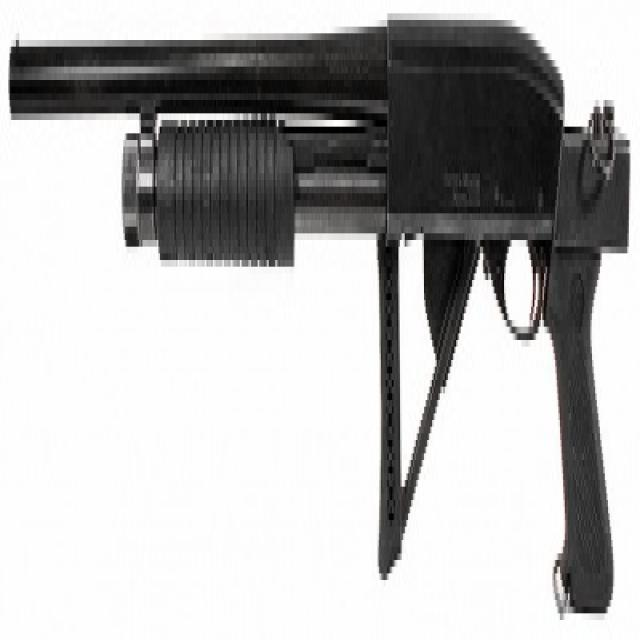rifle: (6, 1, 630, 614)
